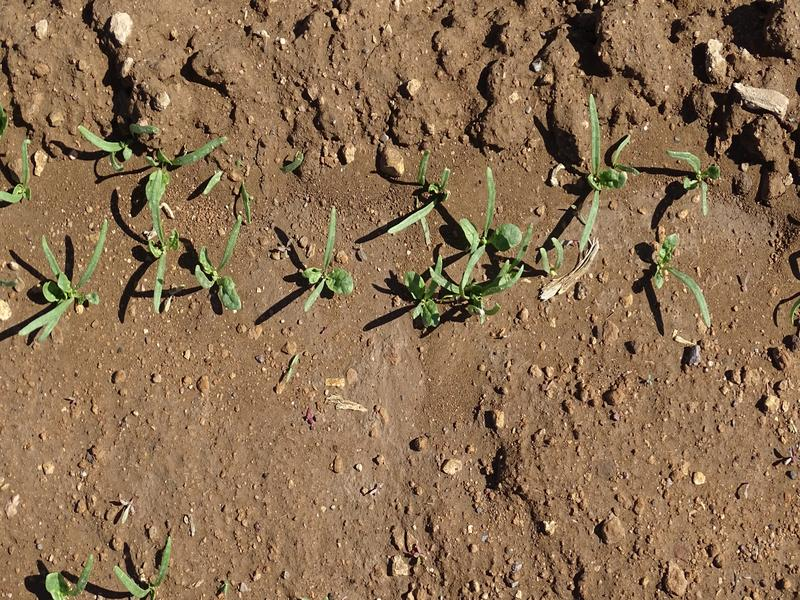Espinaca: (3, 134, 223, 340), (397, 168, 526, 328), (652, 153, 717, 319), (44, 535, 181, 600), (576, 102, 622, 257), (304, 207, 355, 325)
